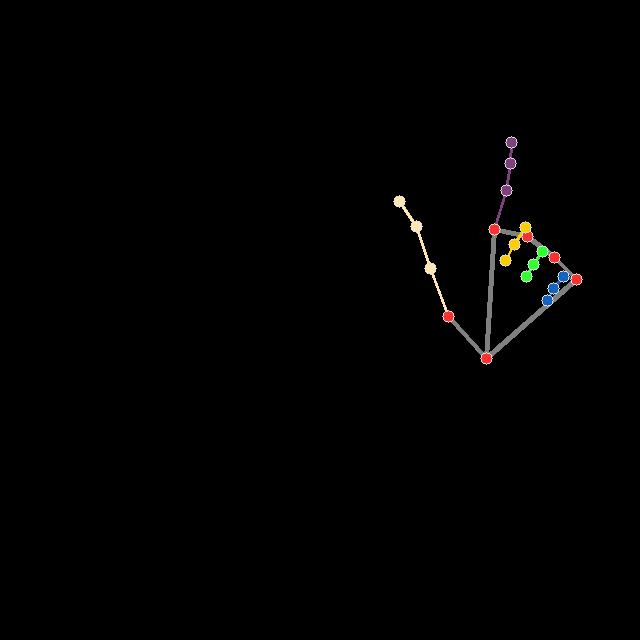gun: (393, 134, 586, 366)
